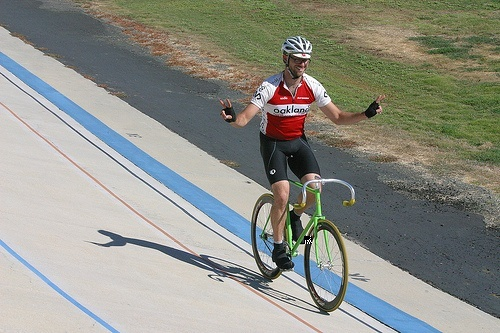car: (252, 156, 357, 316)
person: (220, 35, 383, 272)
person/foot: (290, 212, 309, 244), (273, 248, 295, 270)
person/hand: (365, 95, 384, 119), (218, 99, 236, 122)
person/head: (281, 37, 311, 78)
